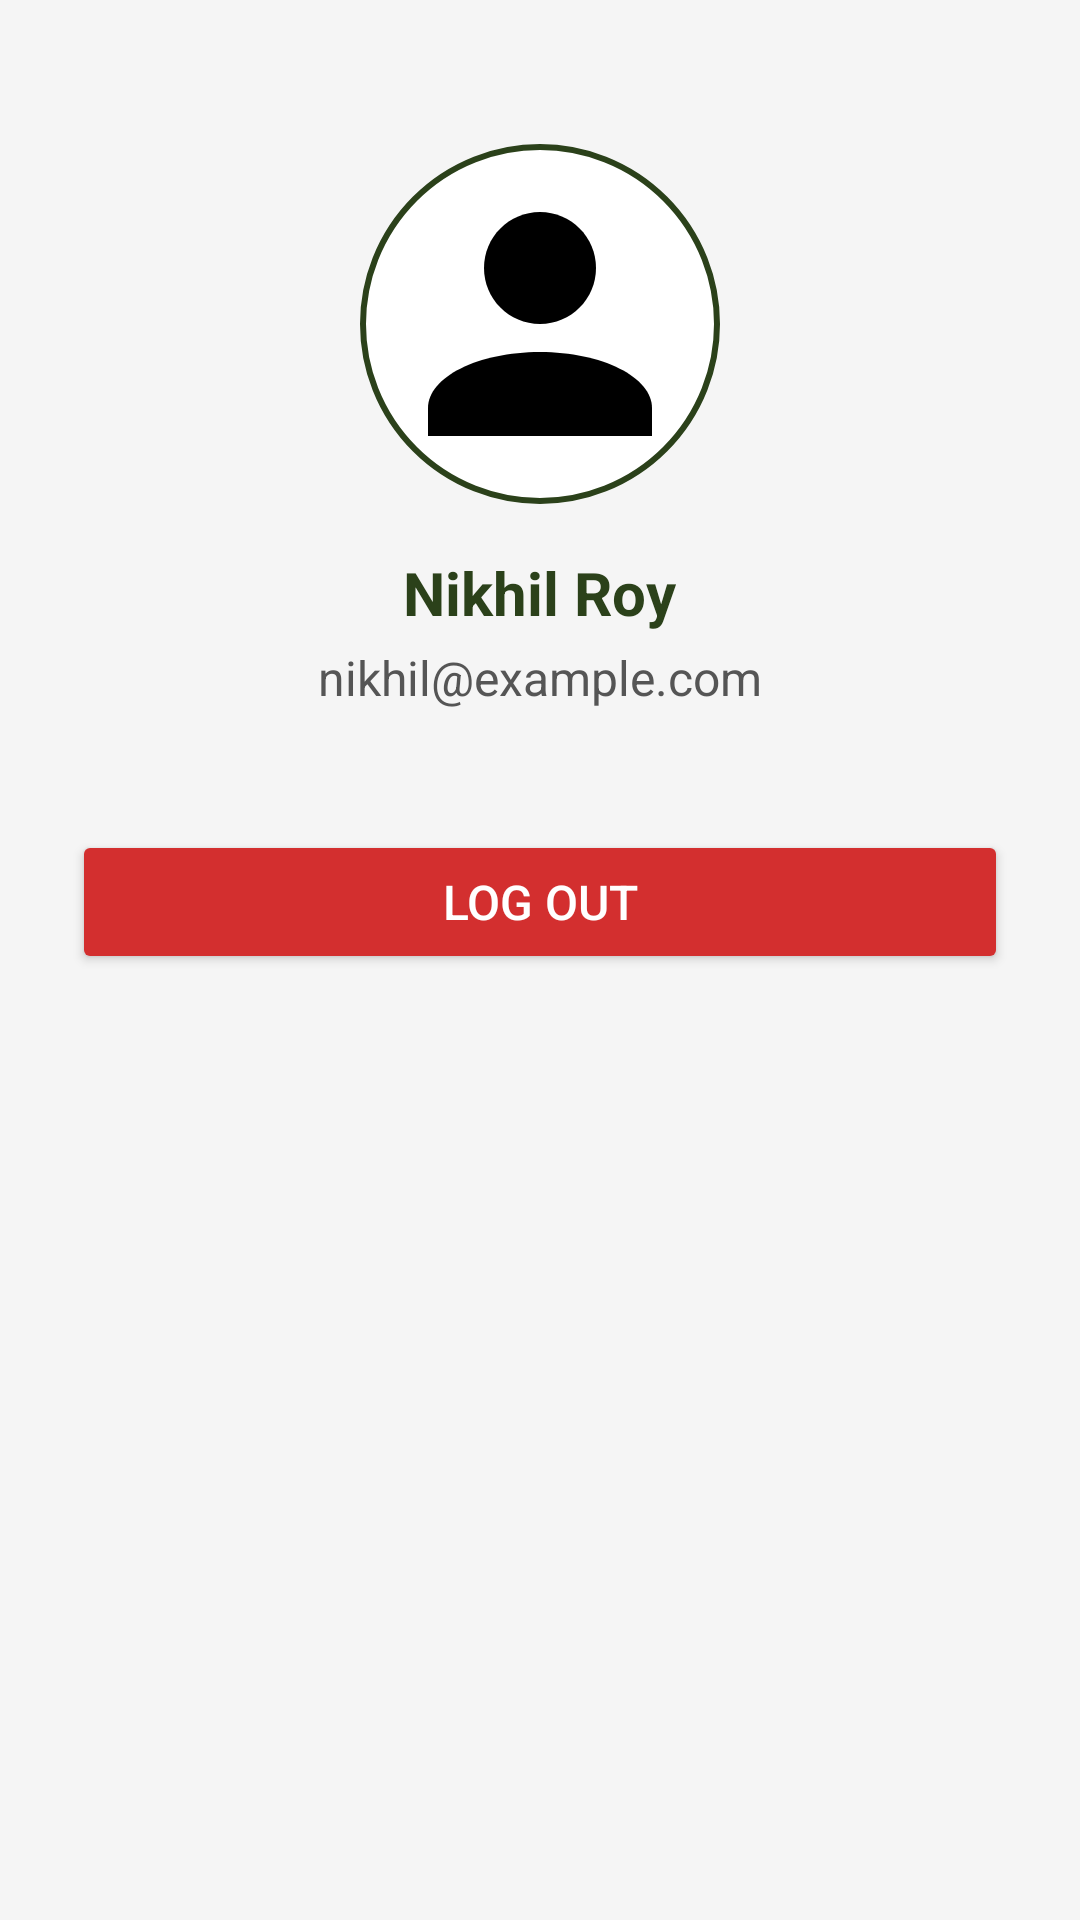

Locate icon controls on the screen. Image size 1080*1920, boxes as [x1, y1, x2, y2].
profile: [360, 144, 720, 504]
